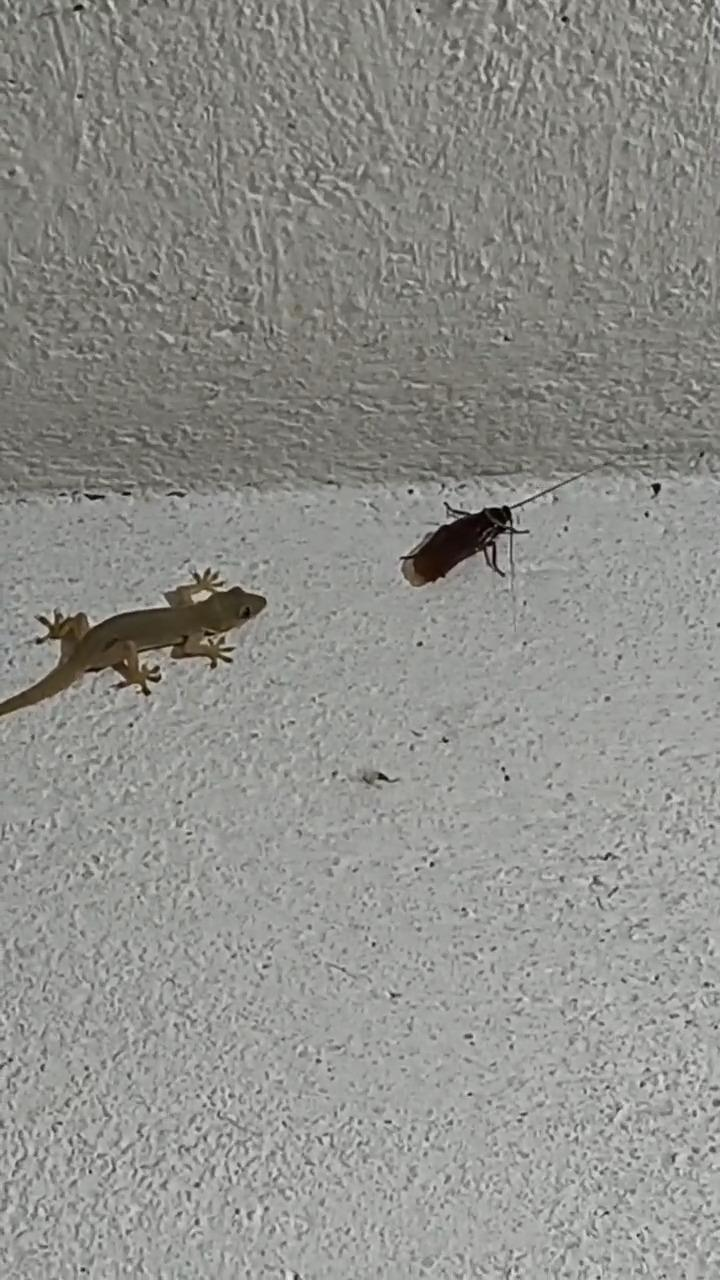cockroach: (386, 498, 567, 594)
lizard: (0, 543, 289, 720)
